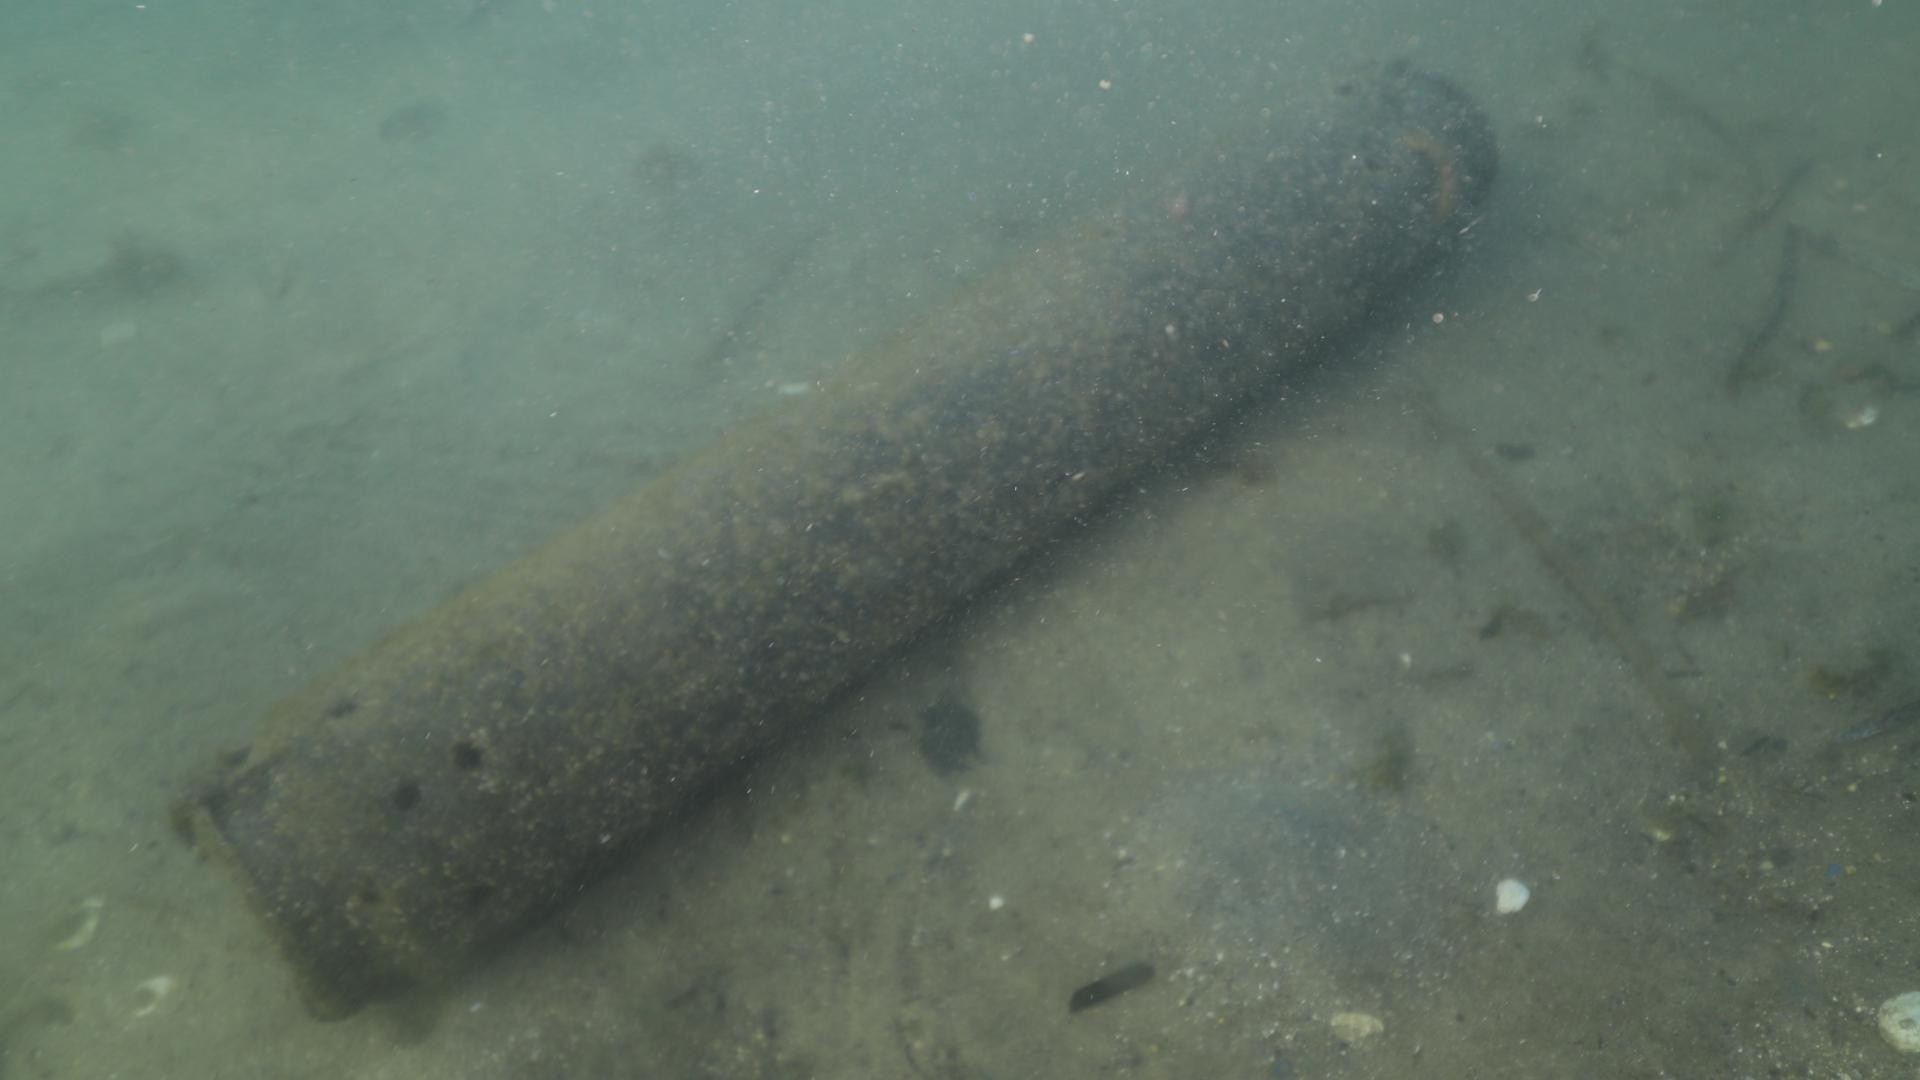eel fish trap: (162, 51, 1506, 1029)
